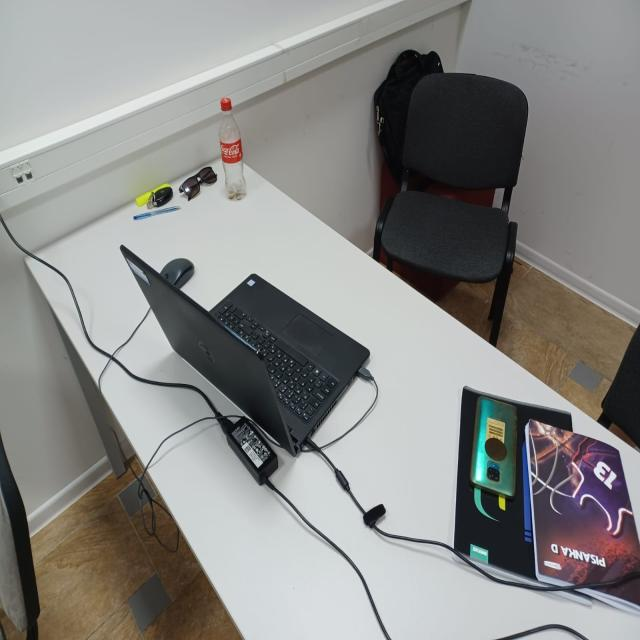Laptops_bbox: (106, 202, 400, 460)
